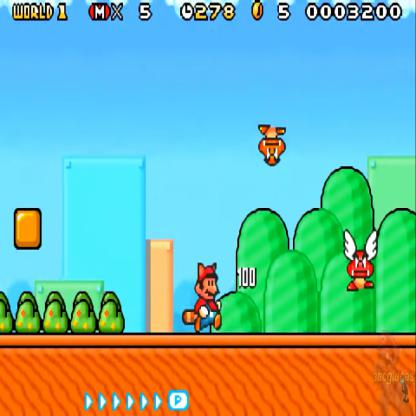Goomba: (342, 232, 380, 285), (255, 119, 287, 171)
Mario: (181, 257, 226, 338)
